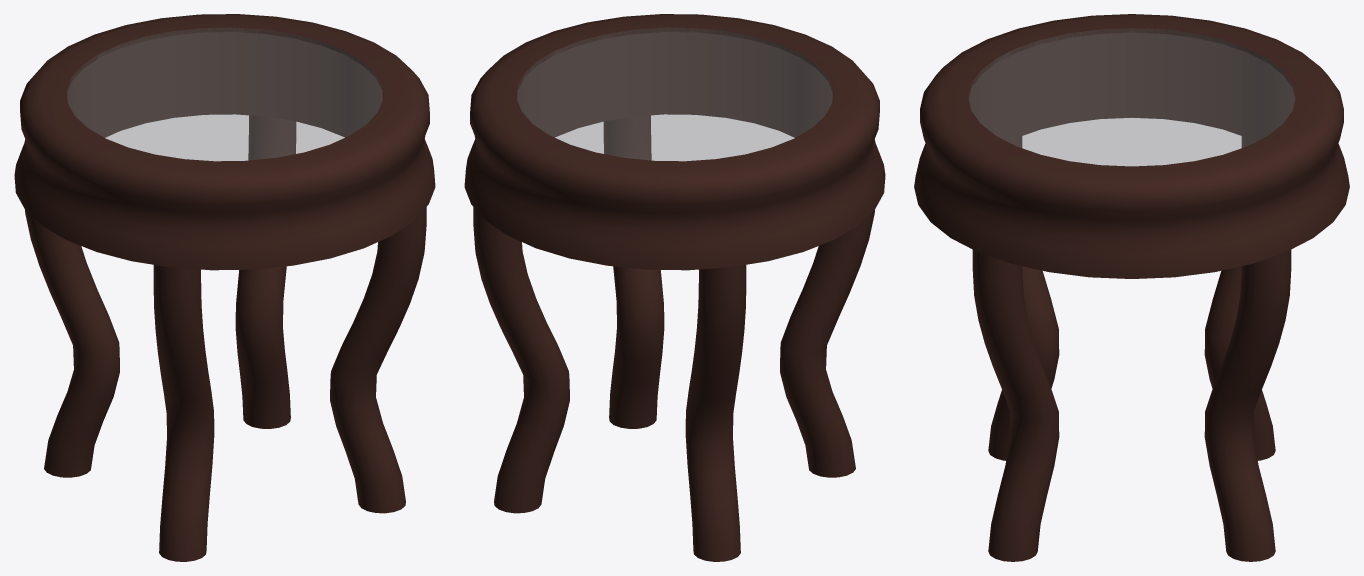
File: mesa-de-té.fbx
The picture shows the model from 3 angles, left to right: view 1: azimuth 30°, elevation 25°; view 2: azimuth 150°, elevation 25°; view 3: azimuth 270°, elevation 25°; orthographic projection. The views are drawn at different scales.
Parts seen in each view (by area): view 1: mesa, Cylinder, vidrio; view 2: mesa, Cylinder, vidrio; view 3: mesa, Cylinder, vidrio.
Boxes of the visible parts, x1,y1,x2,y2 form: mesa: (14, 14, 435, 270); Cylinder: (25, 115, 426, 561); vidrio: (67, 28, 382, 160); mesa: (464, 14, 885, 270); Cylinder: (473, 115, 874, 561); vidrio: (517, 28, 832, 160); mesa: (914, 14, 1349, 278); Cylinder: (972, 136, 1291, 561); vidrio: (968, 28, 1295, 165).
Bounding box in the file's own units: 44 × 45 × 44.
